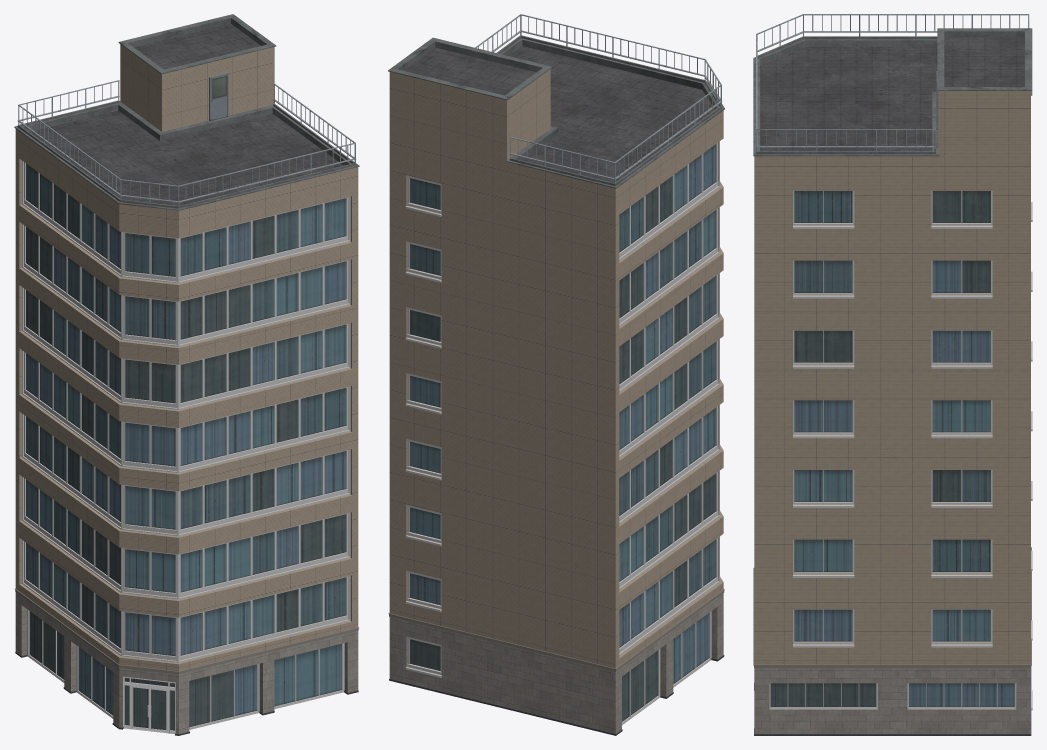
File: jctBld12_A.fbx
3 views of the same model, side by side, from view 1: azimuth 30°, elevation 25°; view 2: azimuth 150°, elevation 25°; view 3: azimuth 270°, elevation 25° (orthographic). The views are drawn at different scales.
Parts seen in each view (by area): view 1: jctBld12_A_LOD0; view 2: jctBld12_A_LOD0; view 3: jctBld12_A_LOD0.
Part boxes in pixels (box(x1,y1,x2,y2)): jctBld12_A_LOD0: box(14, 14, 359, 735); jctBld12_A_LOD0: box(388, 14, 724, 735); jctBld12_A_LOD0: box(753, 14, 1032, 735).
Size of the model in its own units: 1165 by 2965 by 1162.
